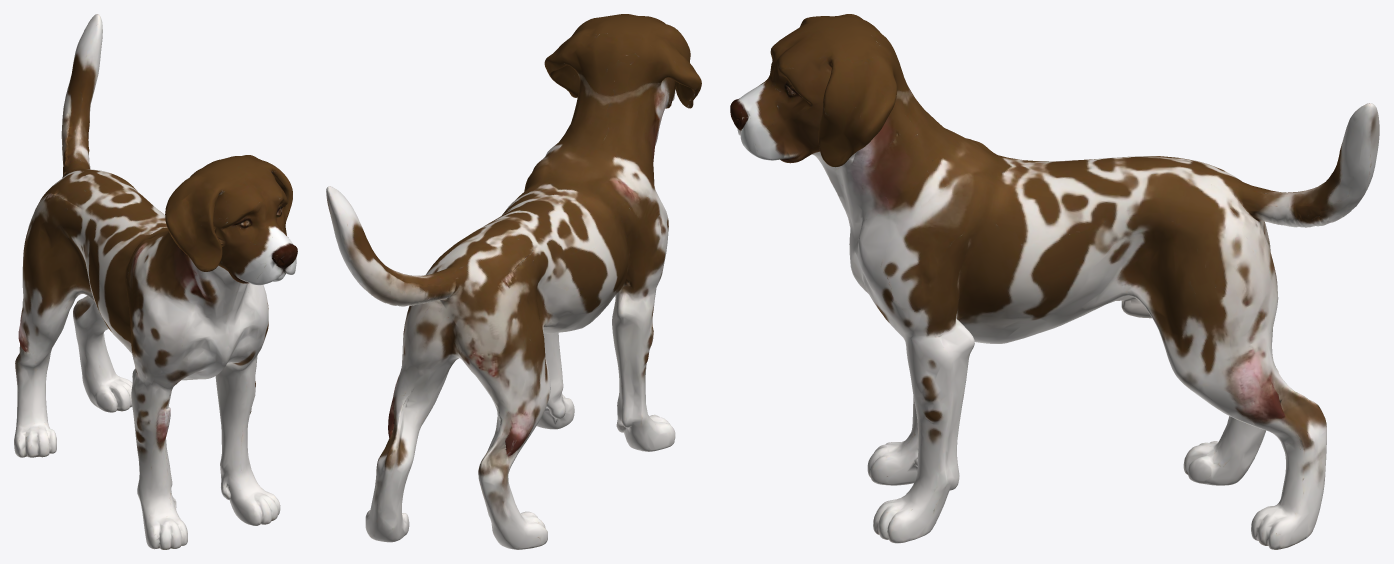
Rendered from detail_2.glb.
3 views of the same model, side by side, from view 1: azimuth 30°, elevation 25°; view 2: azimuth 150°, elevation 25°; view 3: azimuth 270°, elevation 25° (orthographic). The views are drawn at different scales.
Size of the model in its own units: 0.3302 by 0.8153 by 1.
Materials: 1 (1 with a texture image).
